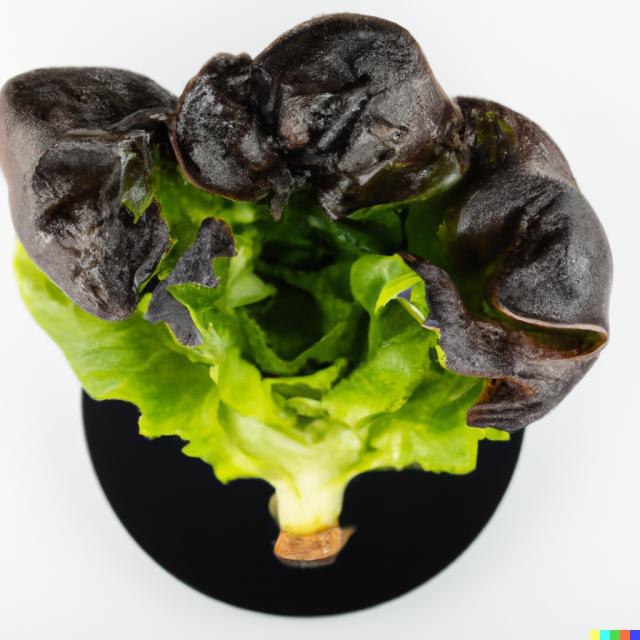-K: (1, 0, 619, 588)
